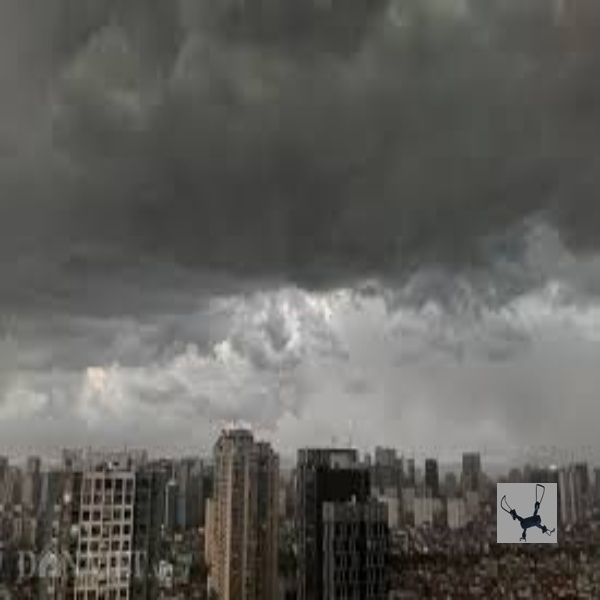drone: (492, 481, 562, 546)
